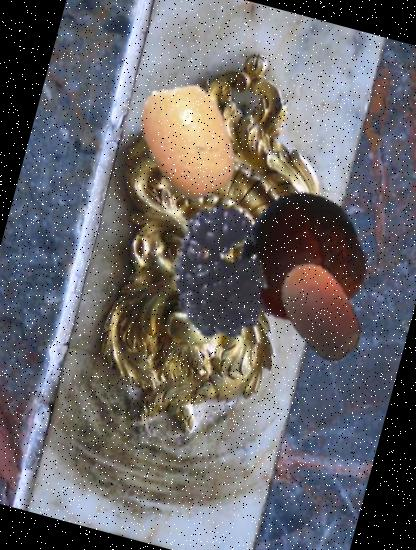Chestnut: (220, 178, 380, 338)
Hazelnut: (258, 246, 385, 373)
Kumquats: (115, 67, 260, 214)
Mulberry: (114, 190, 295, 372)
